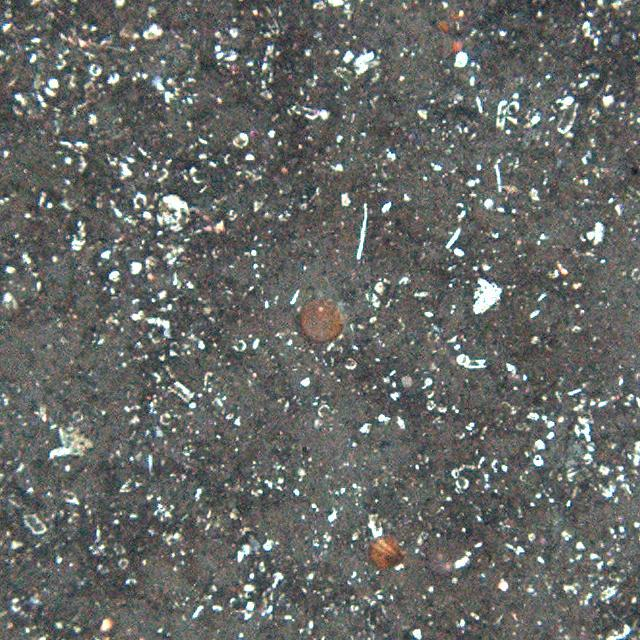scallop: (296, 292, 346, 344), (367, 534, 407, 574)
